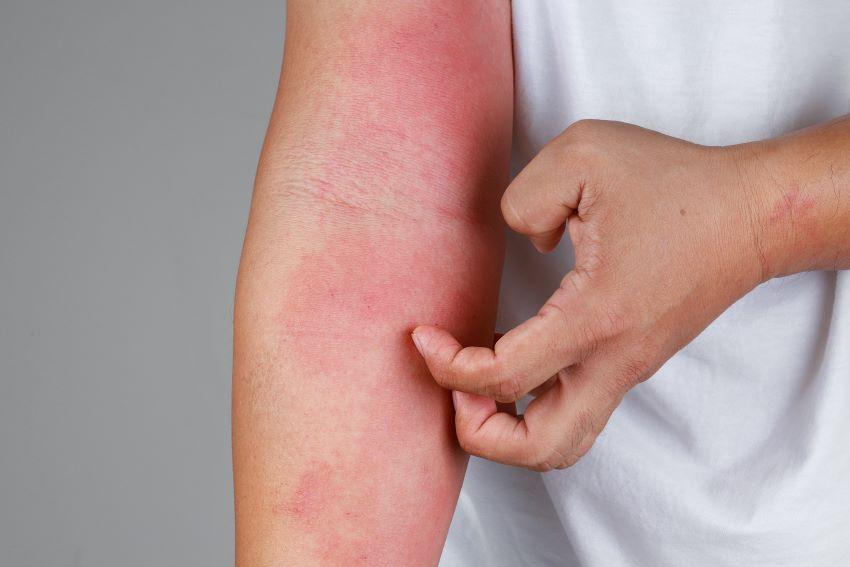Dry-Skin: (312, 0, 501, 279), (281, 284, 405, 556), (742, 176, 817, 285)
